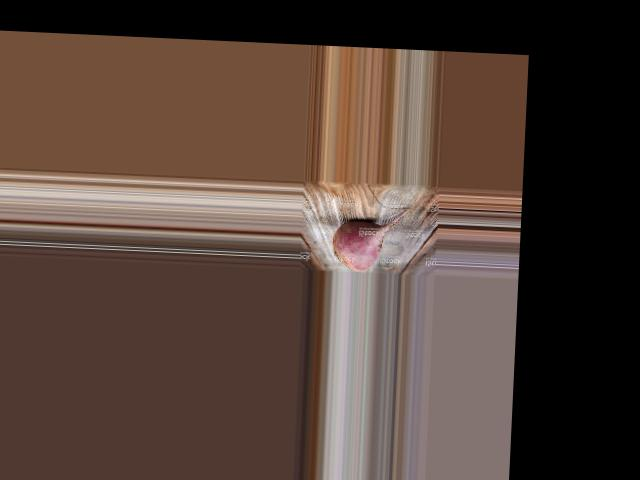beet: (331, 204, 410, 273)
